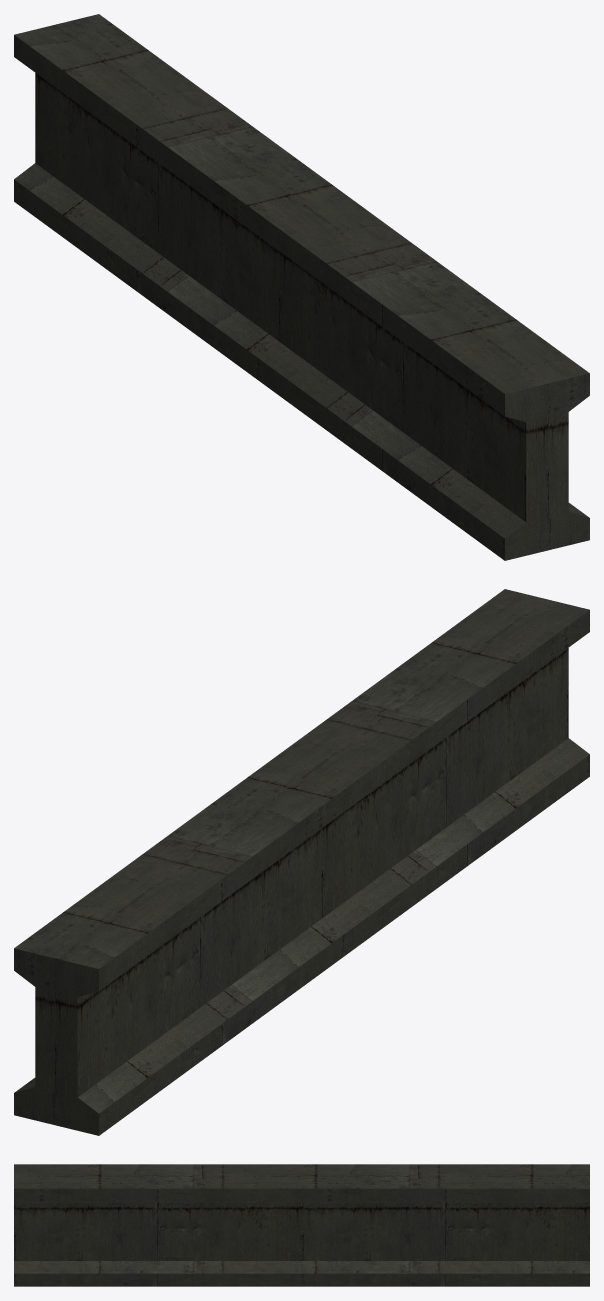
File: seam_hr_1.fbx
3 views of the same model, one above another, from view 1: azimuth 30°, elevation 25°; view 2: azimuth 150°, elevation 25°; view 3: azimuth 270°, elevation 25° (orthographic). The views are drawn at different scales.
Parts seen in each view (by area): view 1: seam_hr_1; view 2: seam_hr_1; view 3: seam_hr_1.
Part boxes in pixels (bbox=[...]): seam_hr_1: bbox=[14, 14, 589, 560]; seam_hr_1: bbox=[14, 589, 589, 1135]; seam_hr_1: bbox=[14, 1164, 589, 1286].
Bounding box in the file's own units: 0.8 × 8 × 1.5.
